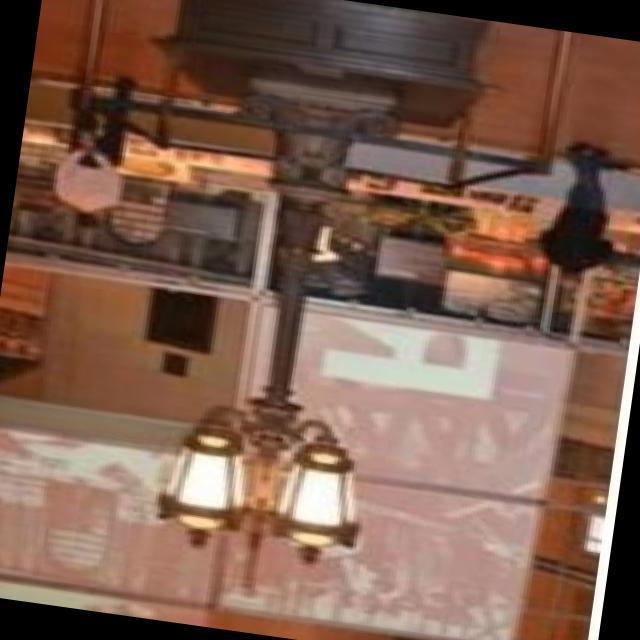on: (180, 418, 394, 568)
